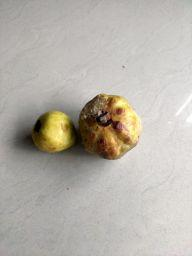guava: (78, 87, 144, 161), (29, 108, 78, 154)
